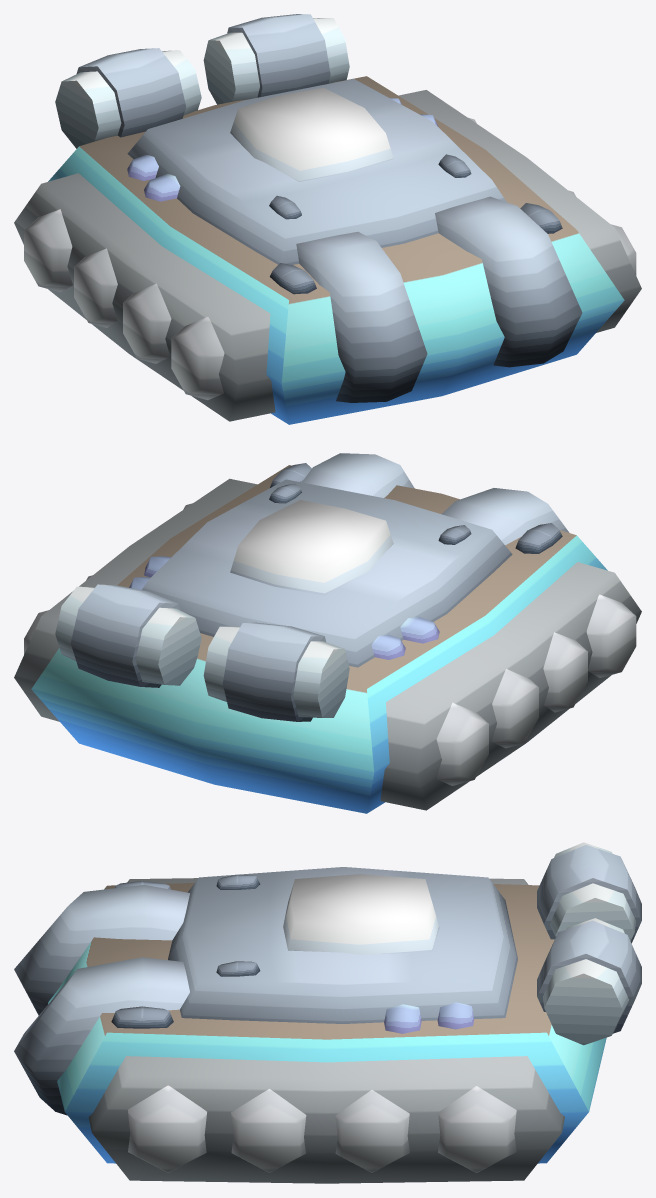
Rendered from tank-body.fbx.
3 views of the same model, one above another, from view 1: azimuth 30°, elevation 25°; view 2: azimuth 150°, elevation 25°; view 3: azimuth 270°, elevation 25° (orthographic). The views are drawn at different scales.
Parts seen in each view (by area): view 1: tank-body; view 2: tank-body; view 3: tank-body.
Boxes of the visible parts, left/top/right/bottom form: tank-body: left=14, top=14, right=641, bottom=424; tank-body: left=14, top=453, right=641, bottom=813; tank-body: left=14, top=842, right=641, bottom=1183.
Size of the model in its own units: 40.1 by 16.25 by 47.76.
